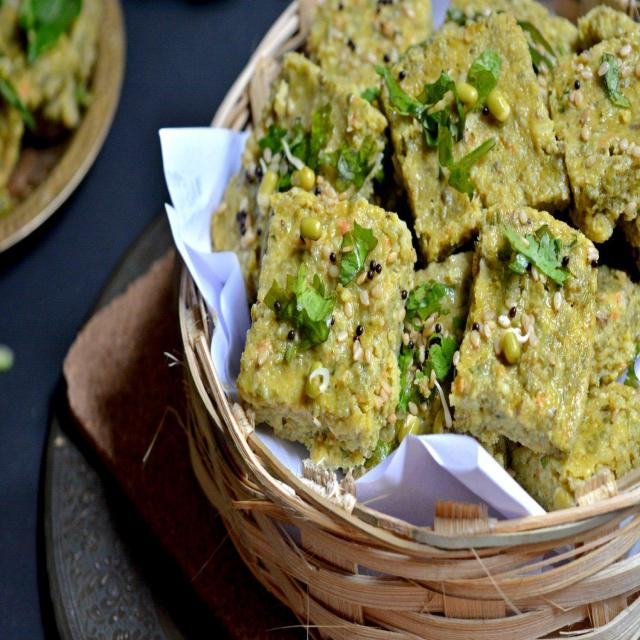dhokla: (240, 0, 632, 531)
